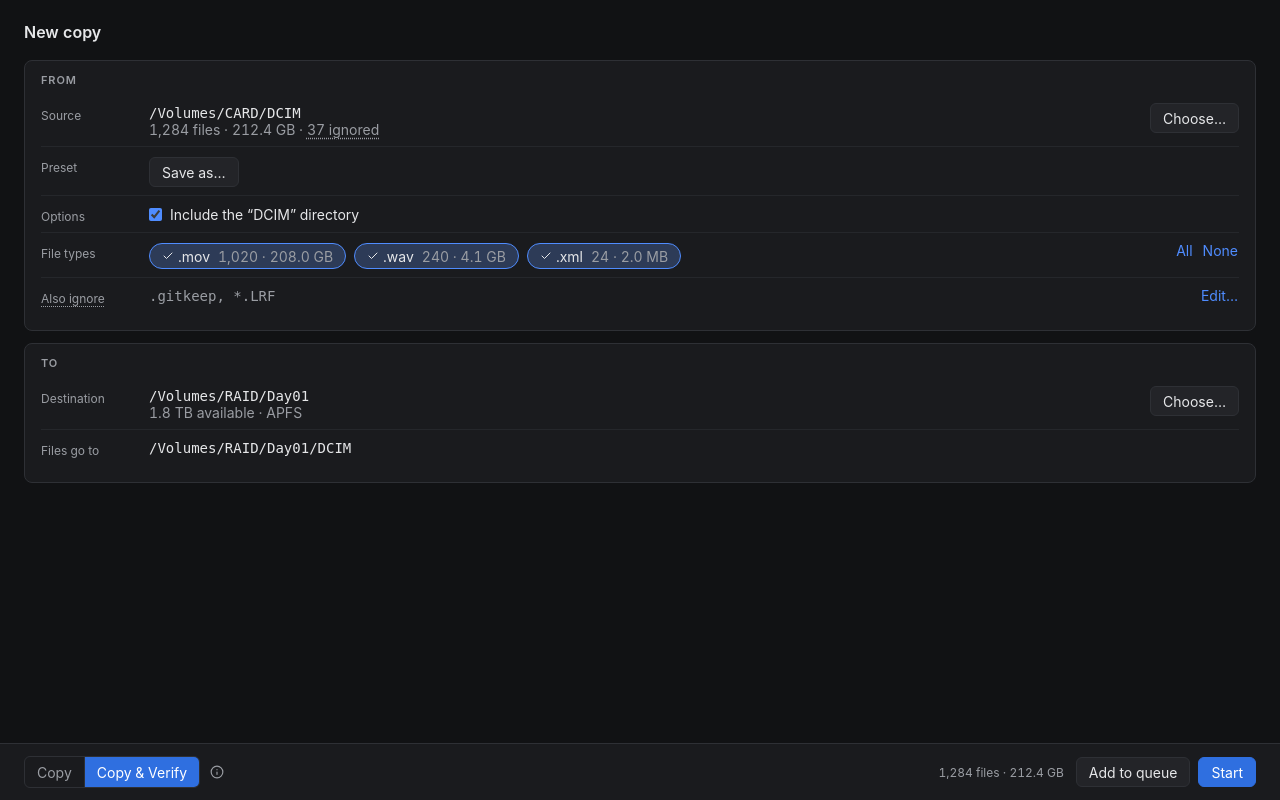
Test: Setup › Also ignore is a row with its patterns, and Edit opens its list (#167)
Expected: the text ".gitkeep, *.LRF" is shown, [149,288,275,304]
Expected: the field labelled "Name pattern" is not shown
Click the button "Edit…": (1219, 296) [1200,286,1239,305]
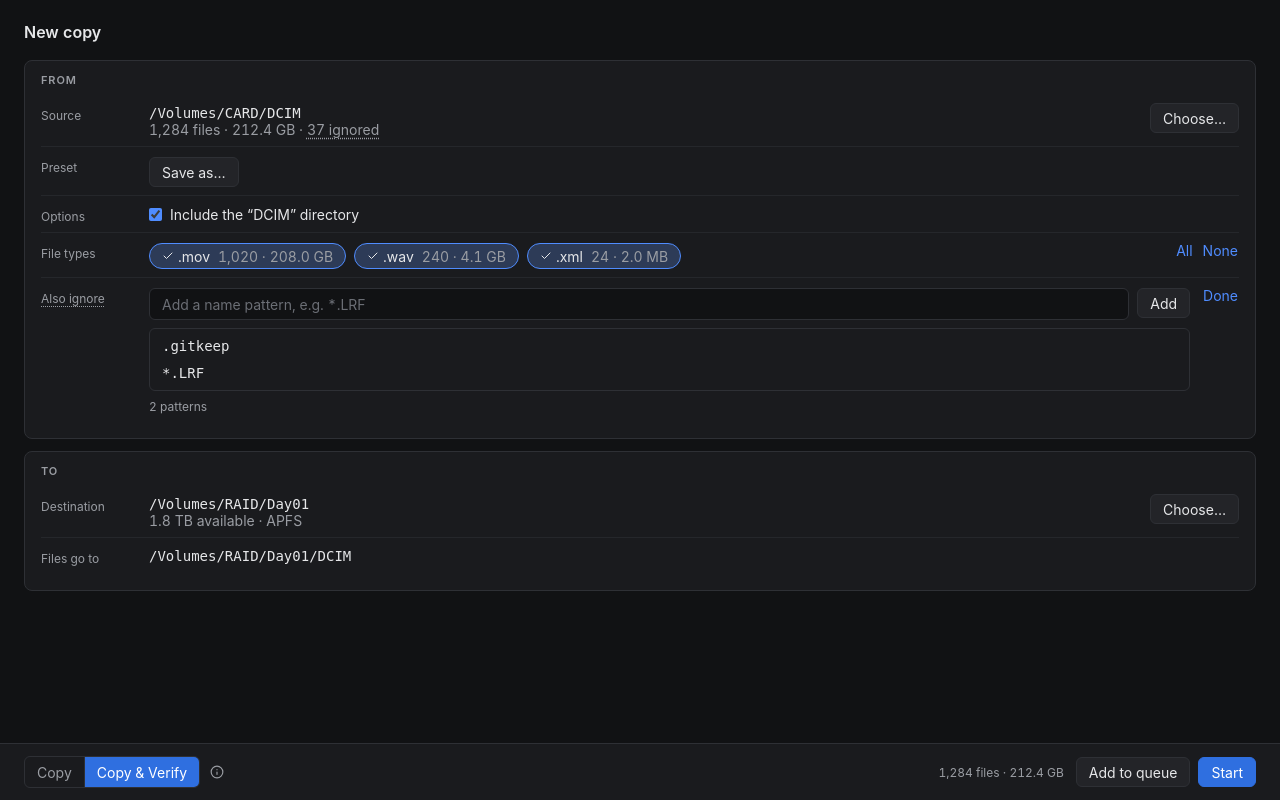
Result: the field labelled "name pattern" is shown at [149,288,1129,320]
Result: the button "Done" is expanded at [1202,286,1239,305]
